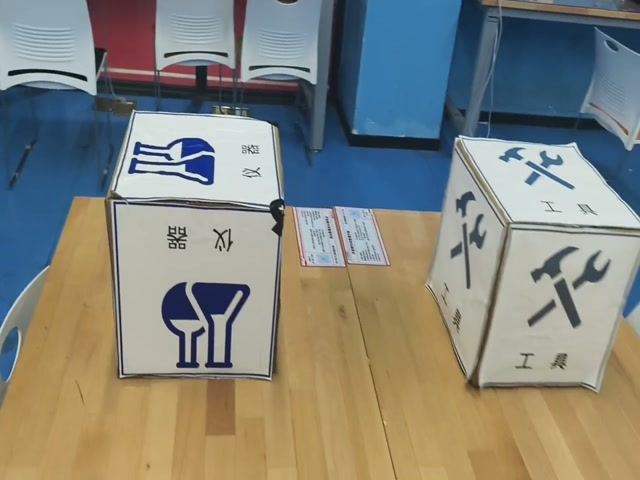Cube_ins: (106, 112, 283, 213)
Cube_tool: (454, 137, 639, 233)
